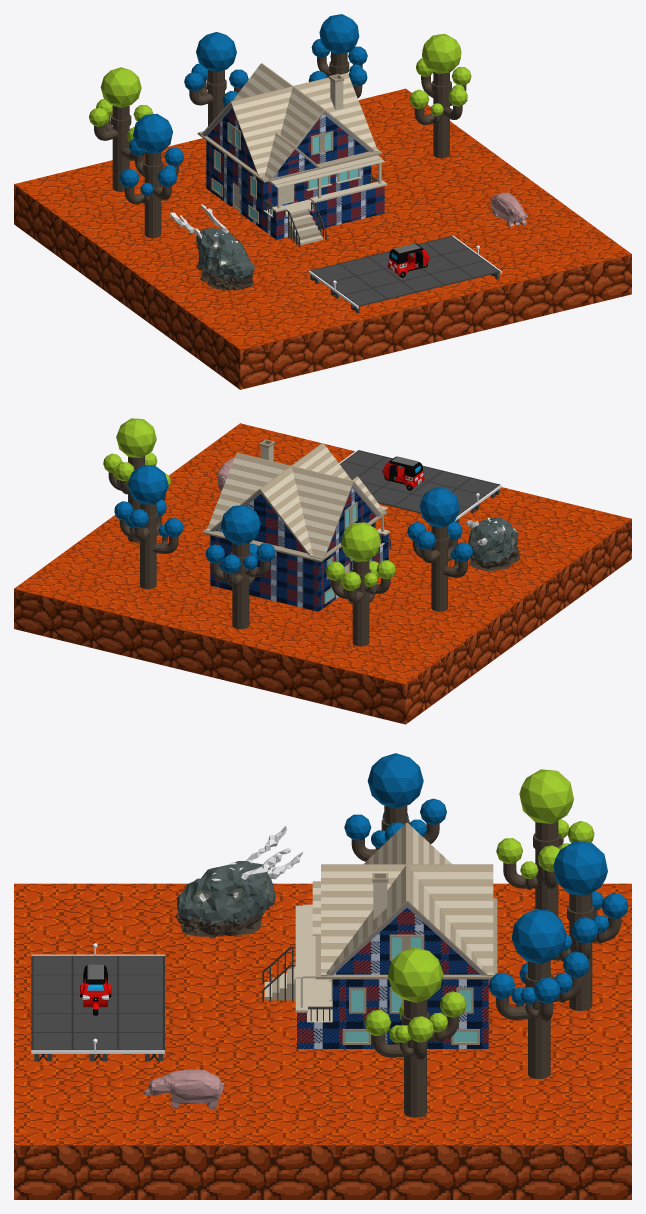
The picture shows the model from 3 angles, top to bottom: view 1: azimuth 30°, elevation 25°; view 2: azimuth 150°, elevation 25°; view 3: azimuth 270°, elevation 25°; orthographic projection. The views are drawn at different scales.
Visible parts, largest first — view 1: Cube.001, Cube.171, OBJRANDOM_METEORITE, VEHICLES_TUC_TUC, ANIMAL_HIPOPOTAMO; view 2: Cube.001, Cube.171, OBJRANDOM_METEORITE, VEHICLES_TUC_TUC; view 3: Cube.001, Cube.171, OBJRANDOM_METEORITE, ANIMAL_HIPOPOTAMO, VEHICLES_TUC_TUC.
Part boxes in pixels (bbox=[...]): Cube.001: bbox=[14, 14, 631, 389]; Cube.171: bbox=[197, 63, 387, 246]; OBJRANDOM_METEORITE: bbox=[170, 204, 254, 290]; VEHICLES_TUC_TUC: bbox=[387, 243, 429, 277]; ANIMAL_HIPOPOTAMO: bbox=[490, 192, 527, 226]; Cube.001: bbox=[14, 418, 631, 724]; Cube.171: bbox=[202, 439, 390, 611]; OBJRANDOM_METEORITE: bbox=[465, 517, 520, 571]; VEHICLES_TUC_TUC: bbox=[382, 456, 424, 490]; Cube.001: bbox=[14, 753, 631, 1199]; Cube.171: bbox=[262, 823, 497, 1048]; OBJRANDOM_METEORITE: bbox=[175, 826, 303, 936]; ANIMAL_HIPOPOTAMO: bbox=[144, 1069, 224, 1108]; VEHICLES_TUC_TUC: bbox=[80, 964, 111, 1015].
Size of the model in its own units: 4000 by 1663 by 4000.
Materials: 34 (5 with a texture image).
